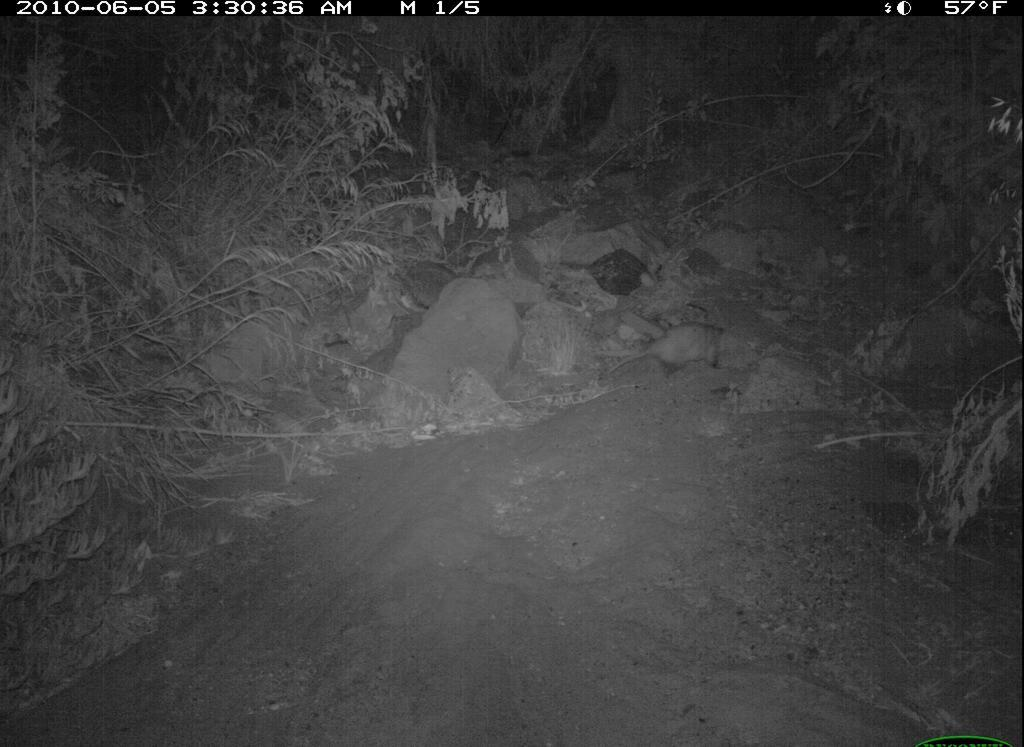opossum: (594, 304, 781, 396)
